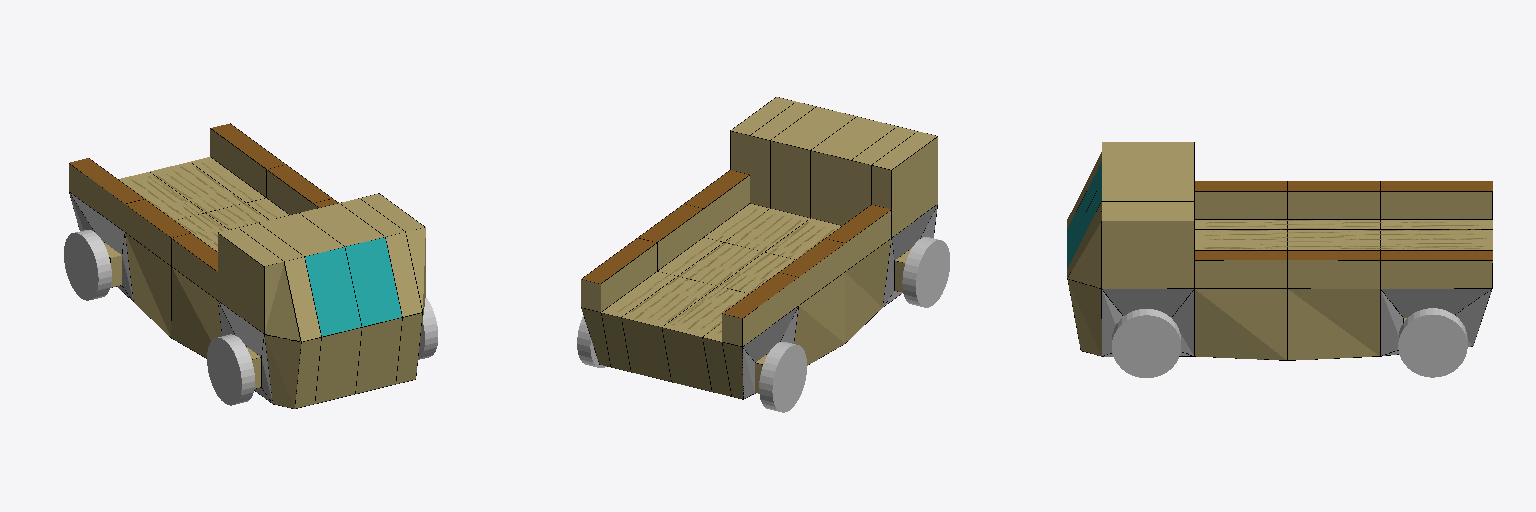
3 renders of one model, left to right at view 1: azimuth 30°, elevation 25°; view 2: azimuth 150°, elevation 25°; view 3: azimuth 270°, elevation 25°, orthographic.
Parts seen in each view (by area): view 1: truck2_Cube.006, truck2_wheelBR_Cube.001, truck2_wheelFR_Cube.002, truck2_wheelFl_Cube.004; view 2: truck2_Cube.006, truck2_wheelBR_Cube.001, truck2_wheelFR_Cube.002, truck2_wheelBL_Cube.003; view 3: truck2_Cube.006, truck2_wheelBL_Cube.003, truck2_wheelFl_Cube.004.
Boxes of the visible parts, box(x1,y1,x2,y2) form: truck2_Cube.006: box(69, 123, 425, 408); truck2_wheelBR_Cube.001: box(64, 230, 111, 300); truck2_wheelFR_Cube.002: box(207, 334, 254, 405); truck2_wheelFl_Cube.004: box(418, 298, 437, 359); truck2_Cube.006: box(581, 97, 937, 399); truck2_wheelBR_Cube.001: box(759, 342, 806, 412); truck2_wheelFR_Cube.002: box(902, 237, 949, 307); truck2_wheelBL_Cube.003: box(577, 315, 606, 367); truck2_Cube.006: box(1067, 142, 1492, 360); truck2_wheelBL_Cube.003: box(1398, 308, 1467, 377); truck2_wheelFl_Cube.004: box(1112, 309, 1180, 377).
Bounding box in the file's own units: 0.9775 × 0.7065 × 1.83.
2 materials, 1 textured.